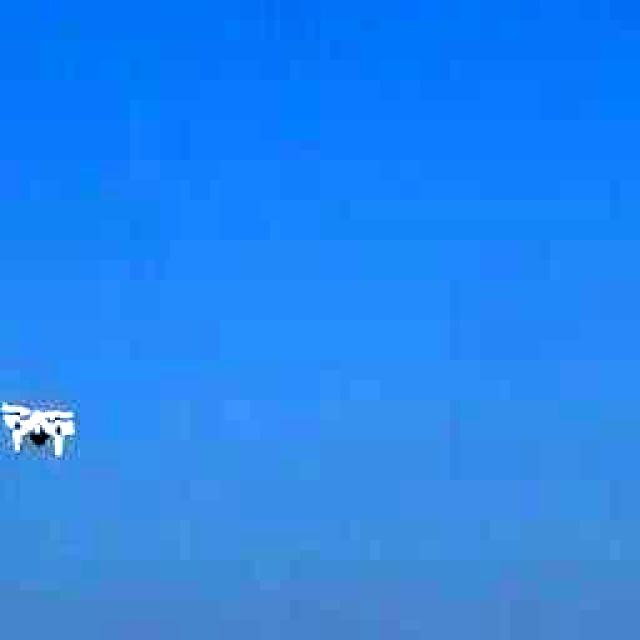bird: (5, 395, 68, 455)
